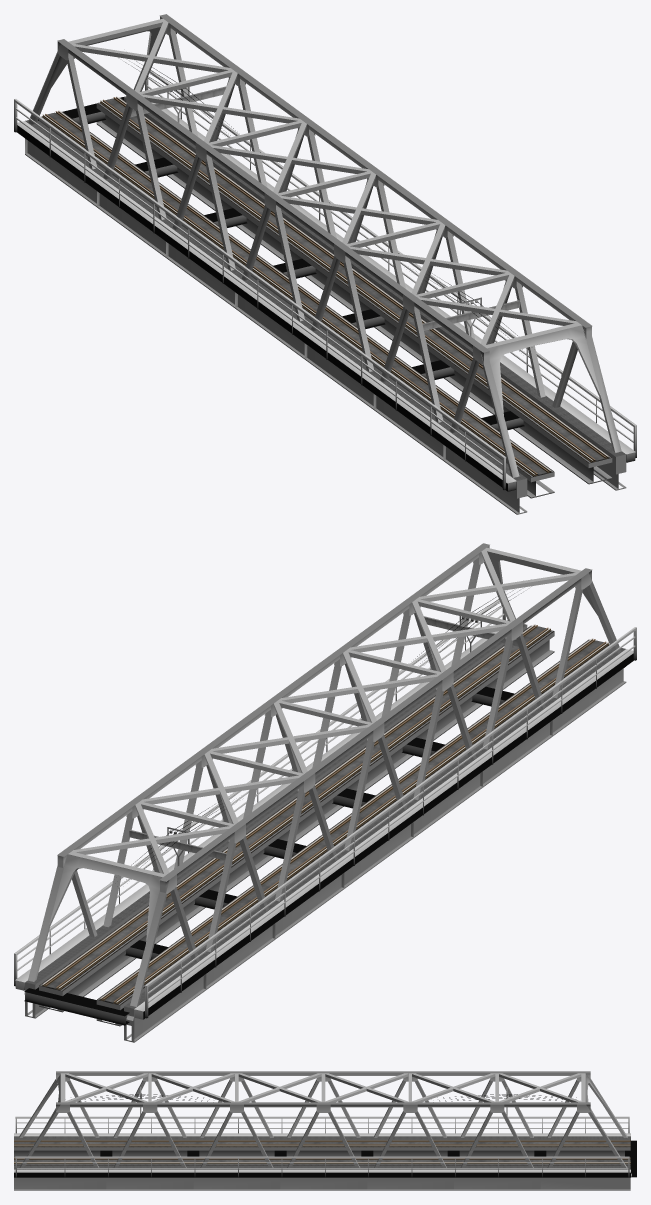
The model's file is TOB_2RAIL_TRAS00.glb.
3 renders of one model, top to bottom at view 1: azimuth 30°, elevation 25°; view 2: azimuth 150°, elevation 25°; view 3: azimuth 270°, elevation 25°, orthographic. The views are drawn at different scales.
Visible parts, largest first — view 1: obj19; view 2: obj19; view 3: obj19.
Boxes of the visible parts, x1,y1,x2,y2 form: obj19: [14, 14, 636, 514]; obj19: [14, 543, 636, 1042]; obj19: [14, 1071, 636, 1190].
Size of the model in its own units: 29.97 by 29.6 by 194.
8 materials, 8 textured.
